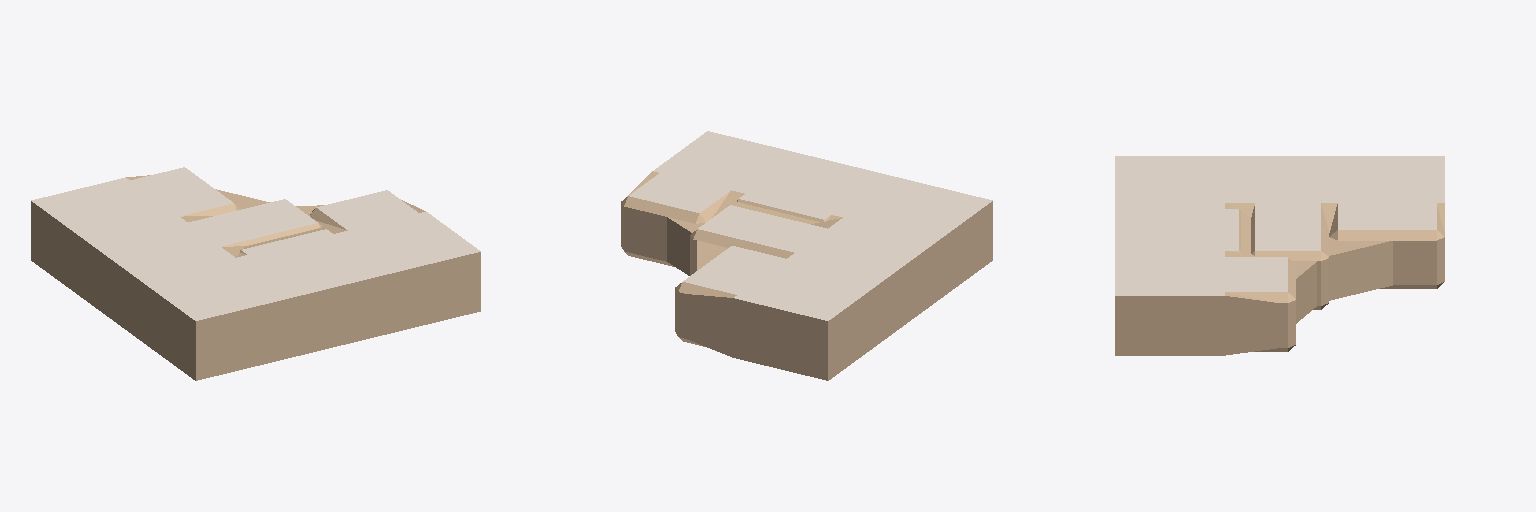
Rendered from Floor_Ruined_Corner_Inner_2.obj.
The picture shows the model from 3 angles: view 1: azimuth 30°, elevation 25°; view 2: azimuth 150°, elevation 25°; view 3: azimuth 270°, elevation 25°; orthographic projection.
Visible parts, largest first — view 1: object1; view 2: object1; view 3: object1.
Part boxes in pixels (bbox=[...]): object1: bbox=[31, 167, 480, 380]; object1: bbox=[621, 131, 992, 380]; object1: bbox=[1115, 156, 1444, 355].
Size of the model in its own units: 1 by 0.2 by 1.